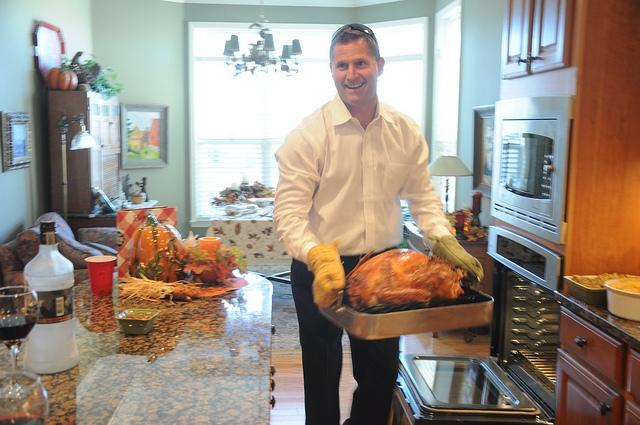pumpkin: (130, 212, 190, 282), (46, 64, 79, 90)
